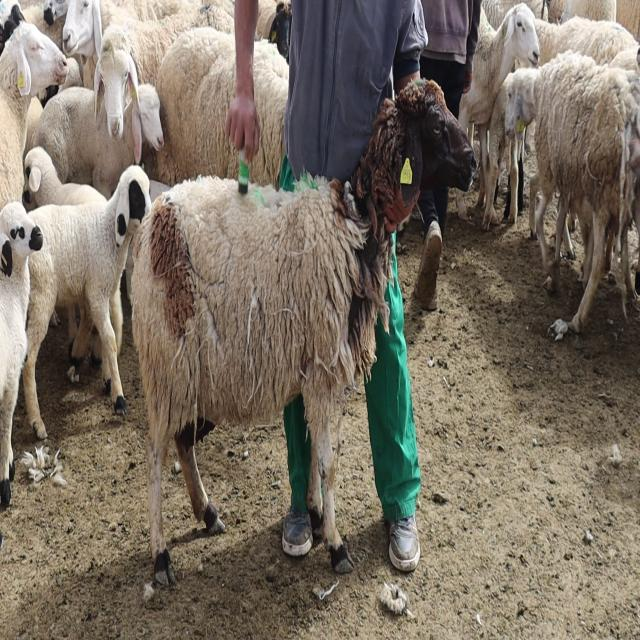Score_1: (132, 80, 476, 584)
